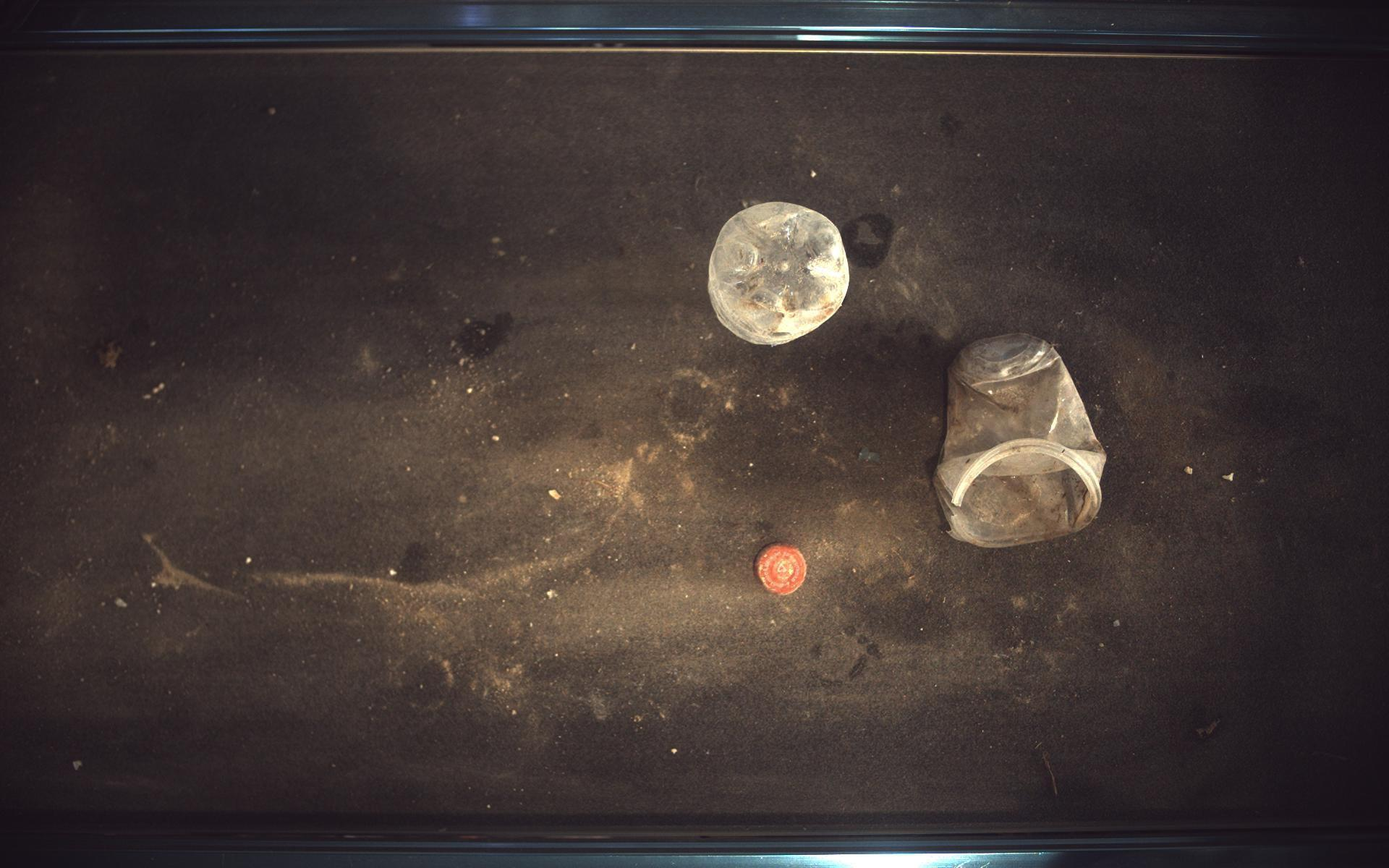general_w: (710, 201, 851, 344), (757, 545, 808, 595)
